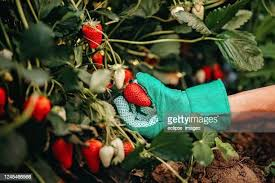ripe: (50, 136, 74, 173), (122, 80, 152, 109), (81, 18, 105, 52), (23, 92, 50, 122), (83, 137, 102, 175), (118, 134, 135, 156), (91, 46, 105, 69)
unripe: (109, 63, 125, 90), (99, 144, 113, 167), (195, 66, 207, 82)
